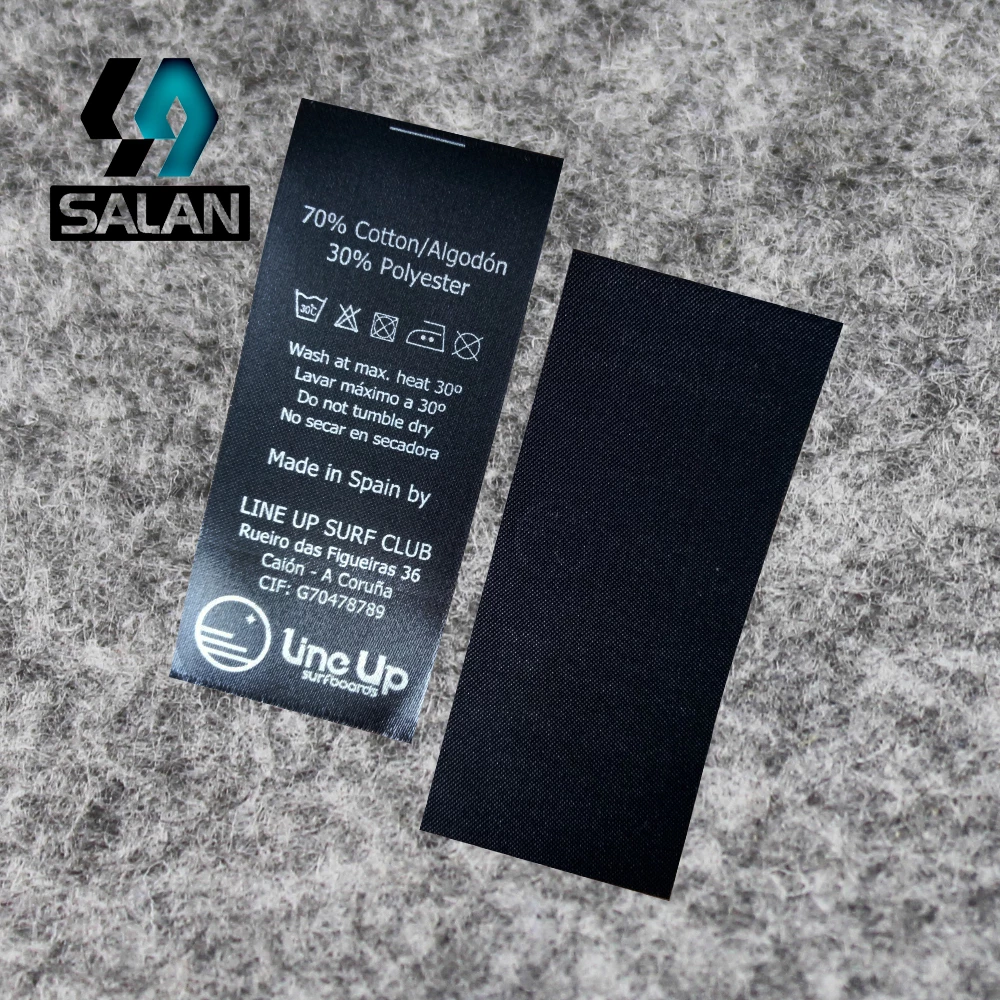ER_iron_medium_temp: (405, 313, 449, 358)
ER_no_bleach: (330, 299, 364, 337)
ER_no_dry_clean: (448, 325, 488, 365)
ER_no_tumble_dry: (365, 306, 402, 344)
ER_wash_30: (289, 283, 329, 328)
